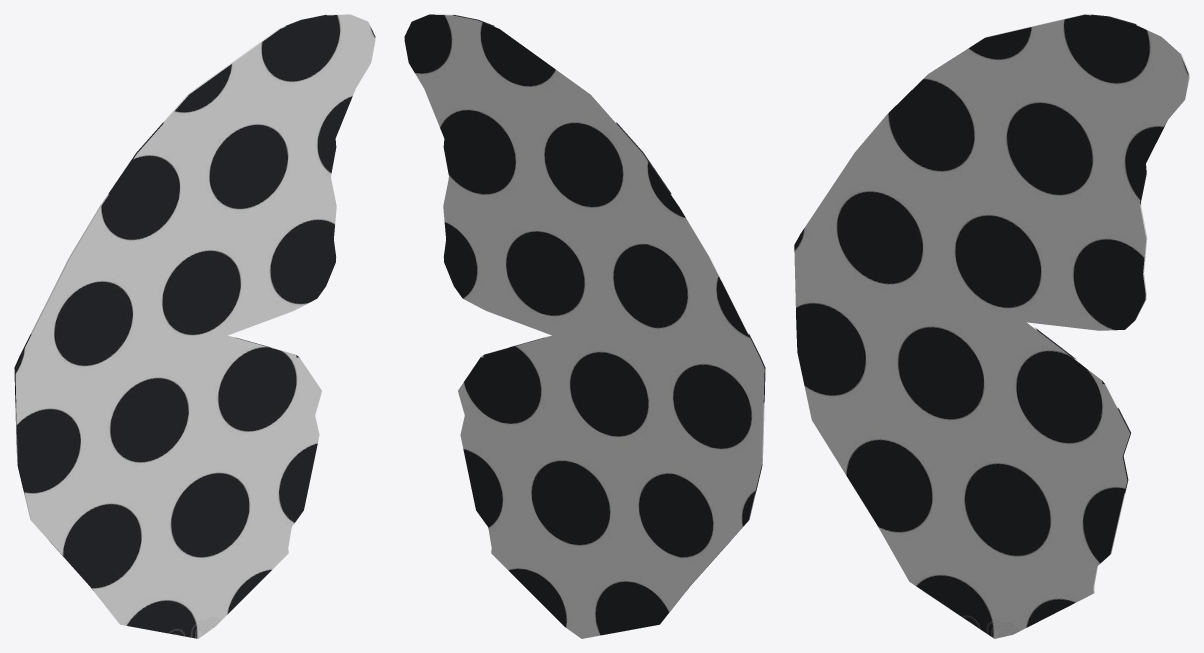
File: ala_derecha.obj
3 views of the same model, side by side, from view 1: azimuth 30°, elevation 25°; view 2: azimuth 150°, elevation 25°; view 3: azimuth 330°, elevation 25° (orthographic). The views are drawn at different scales.
Parts seen in each view (by area): view 1: butterfly_01:wing_01; view 2: butterfly_01:wing_01; view 3: butterfly_01:wing_01.
Part boxes in pixels (x1=…): butterfly_01:wing_01: x1=14, y1=14, x2=375, y2=638; butterfly_01:wing_01: x1=404, y1=14, x2=765, y2=638; butterfly_01:wing_01: x1=794, y1=14, x2=1189, y2=638.
Bounding box in the file's own units: 2.35 × 3.69 × 0.0102.
1 material, 1 textured.
